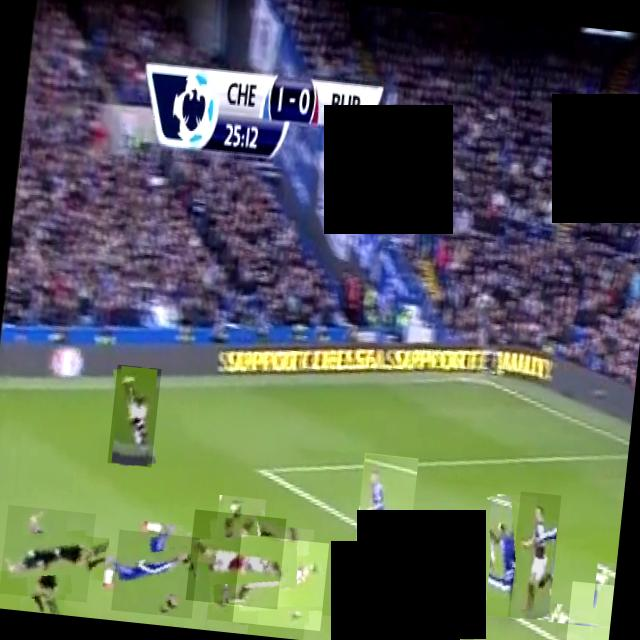referee: (0, 503, 94, 601)
soccer-player: (184, 508, 286, 608), (231, 532, 328, 630), (350, 451, 417, 586), (110, 528, 198, 617), (478, 491, 536, 619), (506, 490, 560, 620), (106, 363, 160, 466), (405, 568, 479, 640), (564, 580, 614, 640)
